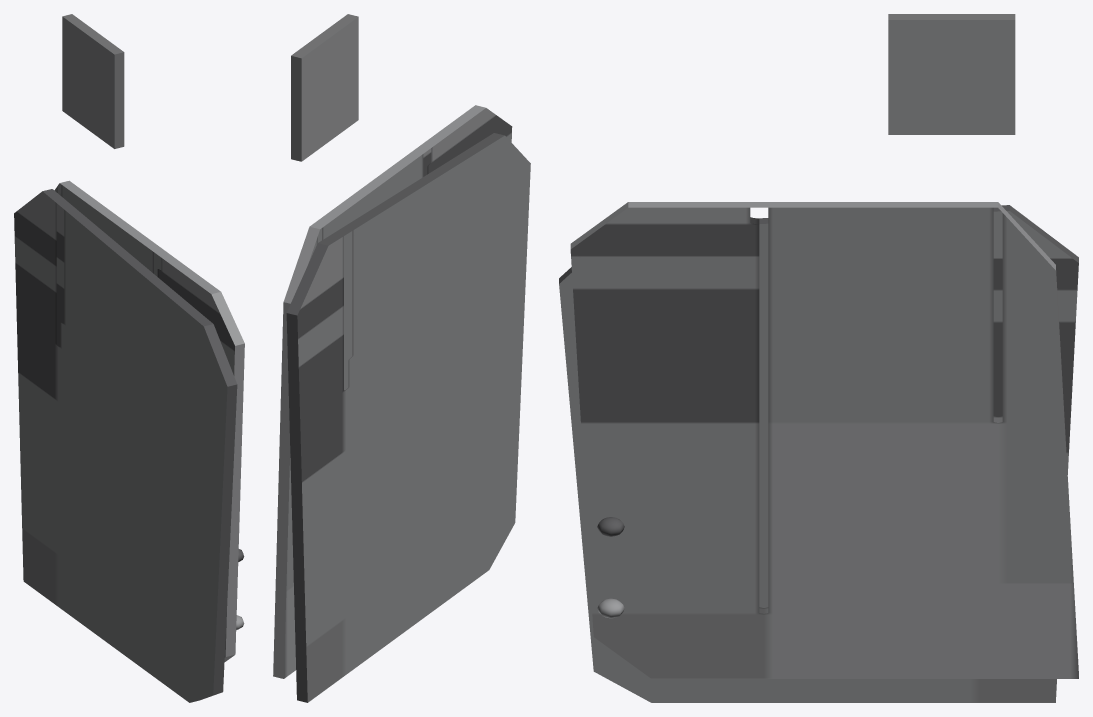
The picture shows the model from 3 angles, left to right: view 1: azimuth 30°, elevation 25°; view 2: azimuth 150°, elevation 25°; view 3: azimuth 270°, elevation 25°; orthographic projection. The views are drawn at different scales.
Bounding box in the file's own units: 0.045 × 0.665 × 0.45.
